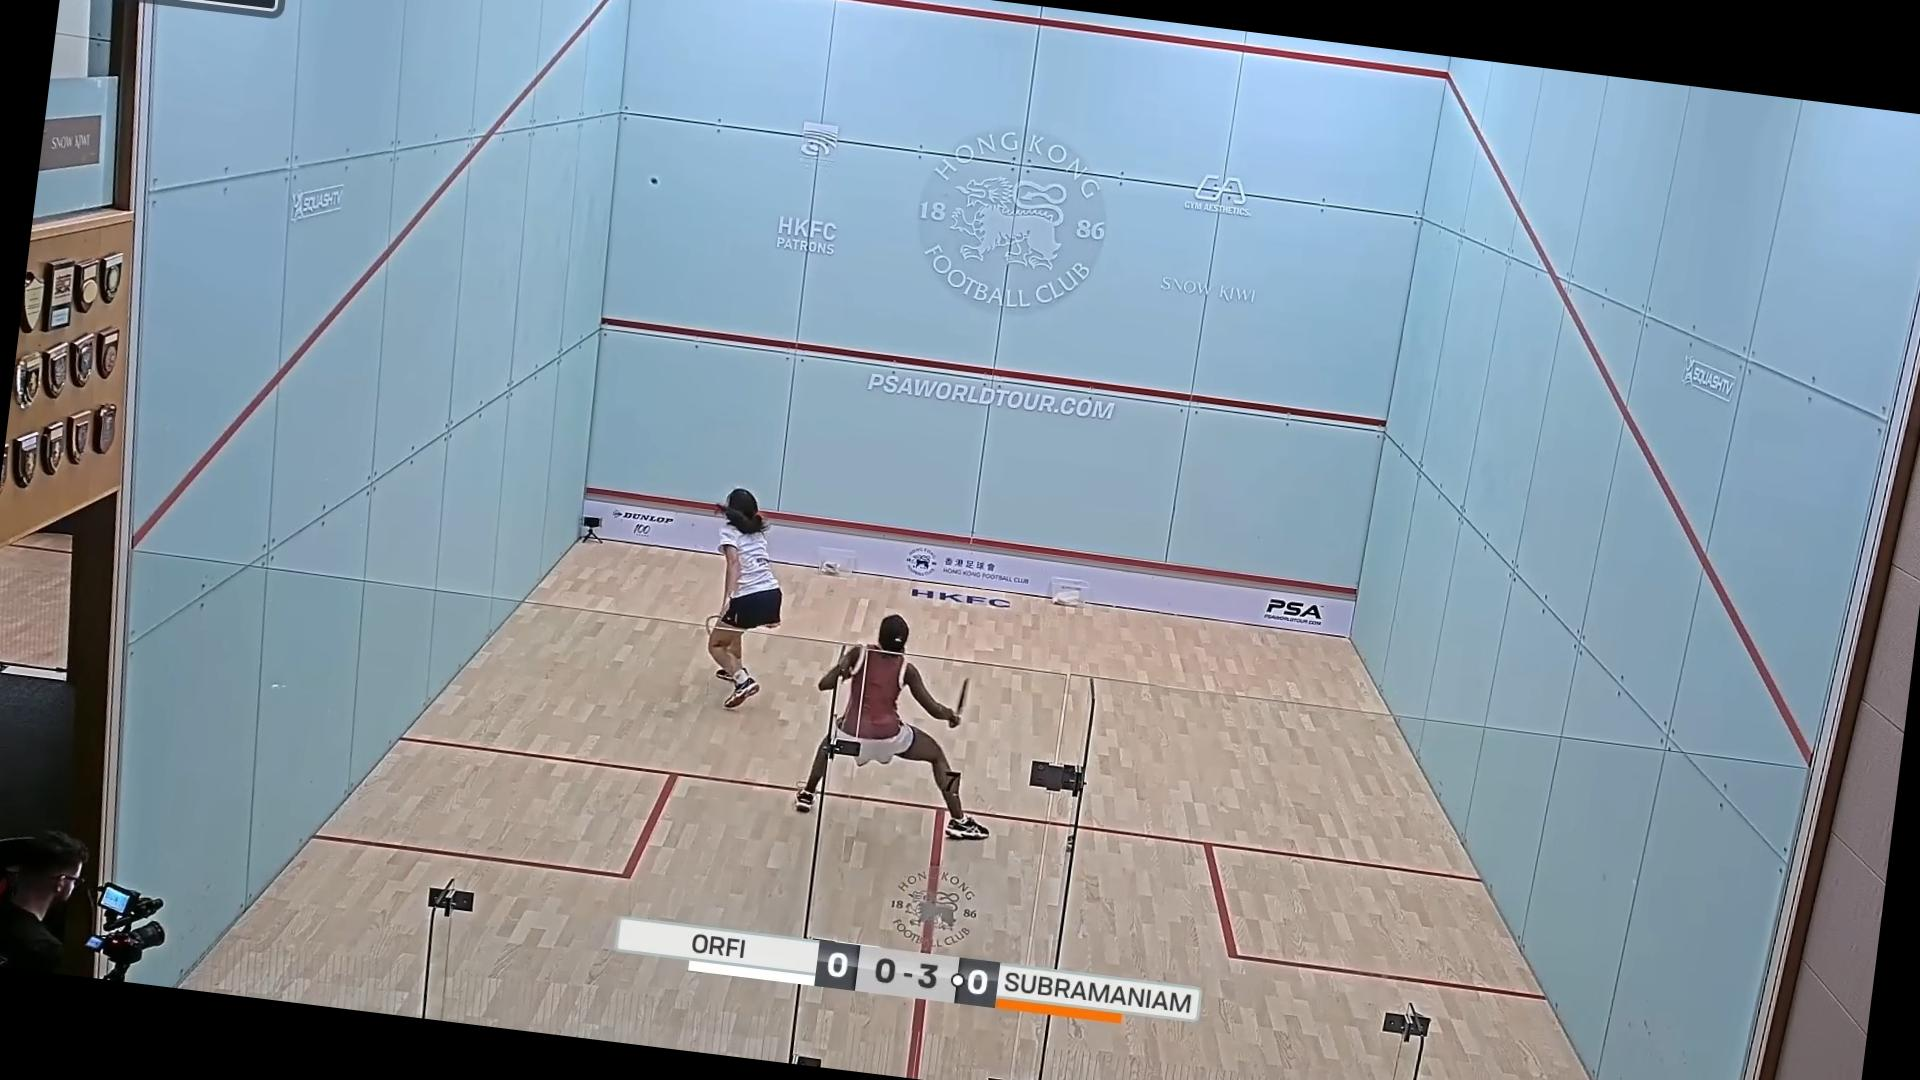Squash-Ball: (636, 164, 670, 198)
